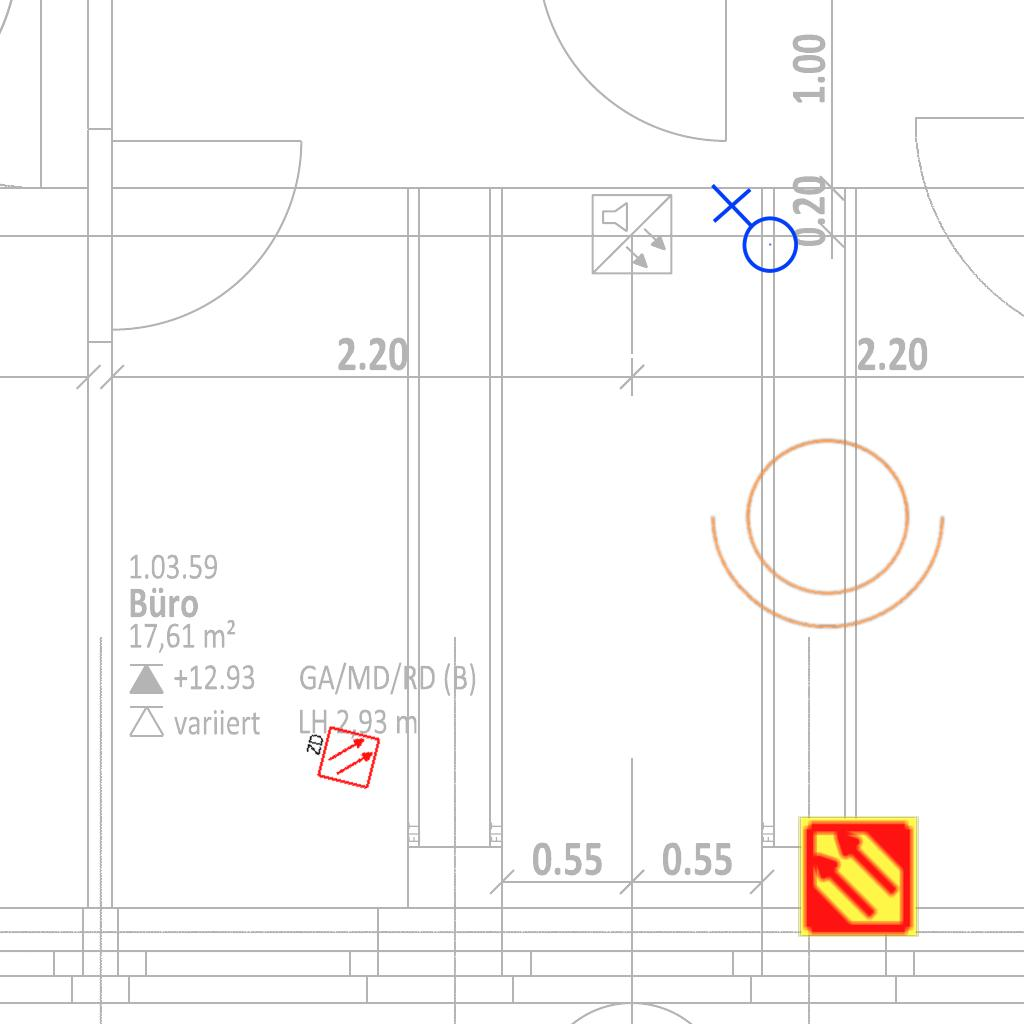ASR_Ansaugrauchmelder: (796, 814, 921, 939)
Elektroanschluss_allgemein_230V_Geraeteanschlussdose_230V: (706, 183, 800, 282)
Scheinwerfer_fuer_Alarmbeleuchtung: (702, 414, 966, 639)
ZD_Melder_in_Zwischendecke_mit_Revisionsoeffnung_mind_40_x_40_cm: (296, 719, 383, 793)
